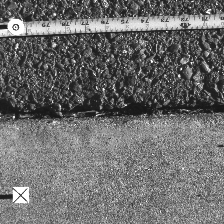circle: (7, 18, 24, 35)
crack: (1, 101, 223, 123)
square: (12, 187, 29, 204)
